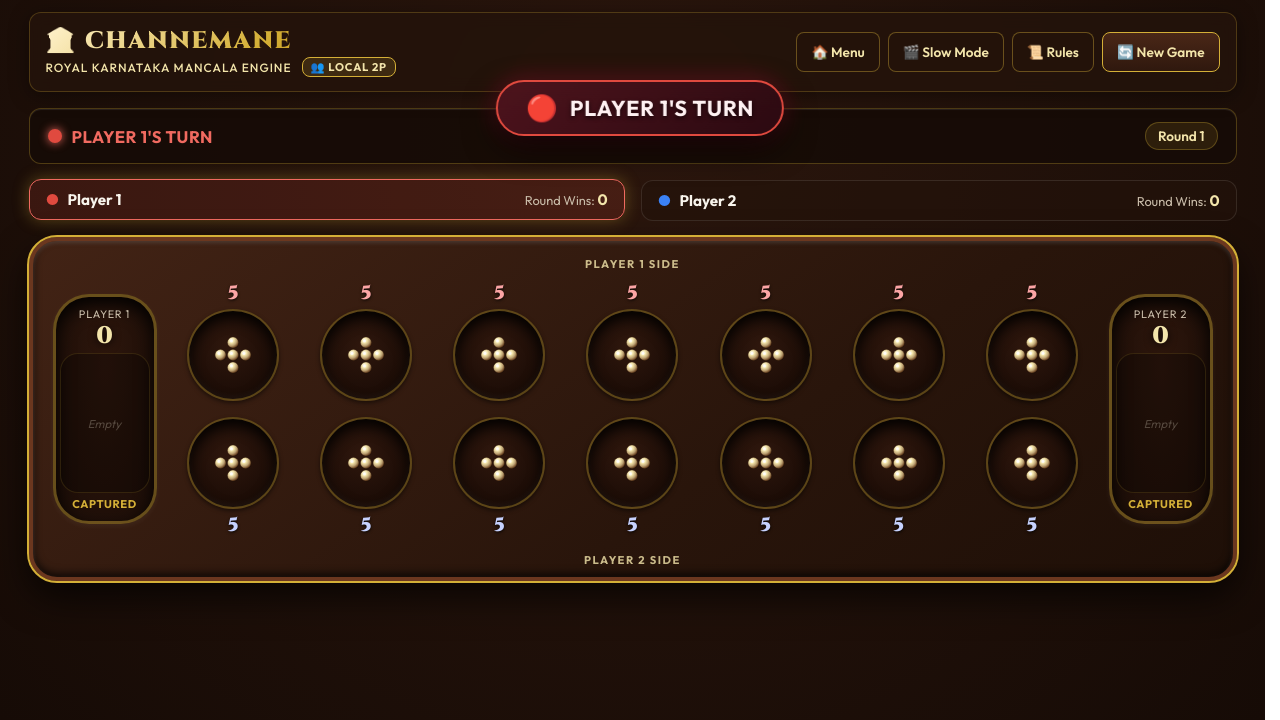
Test: App Integration with Channemane Engine › opens and closes the Rules modal
Click the button with test id "rules-btn". click: coordinates (1053, 52)
box: [1012,32,1094,72]
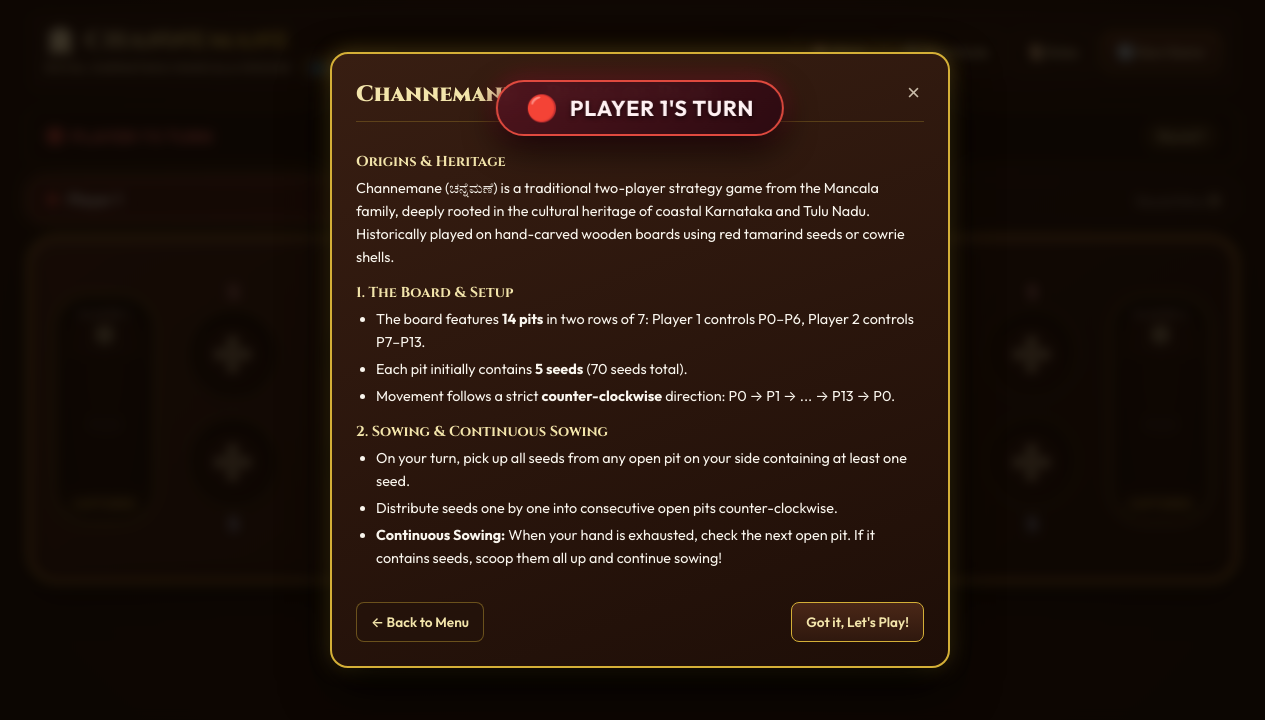
Check: the dialog with test id "rules-modal" is shown
Click the button with test id "close-rules-btn". click: coordinates (913, 94)
box: [903,78,924,109]
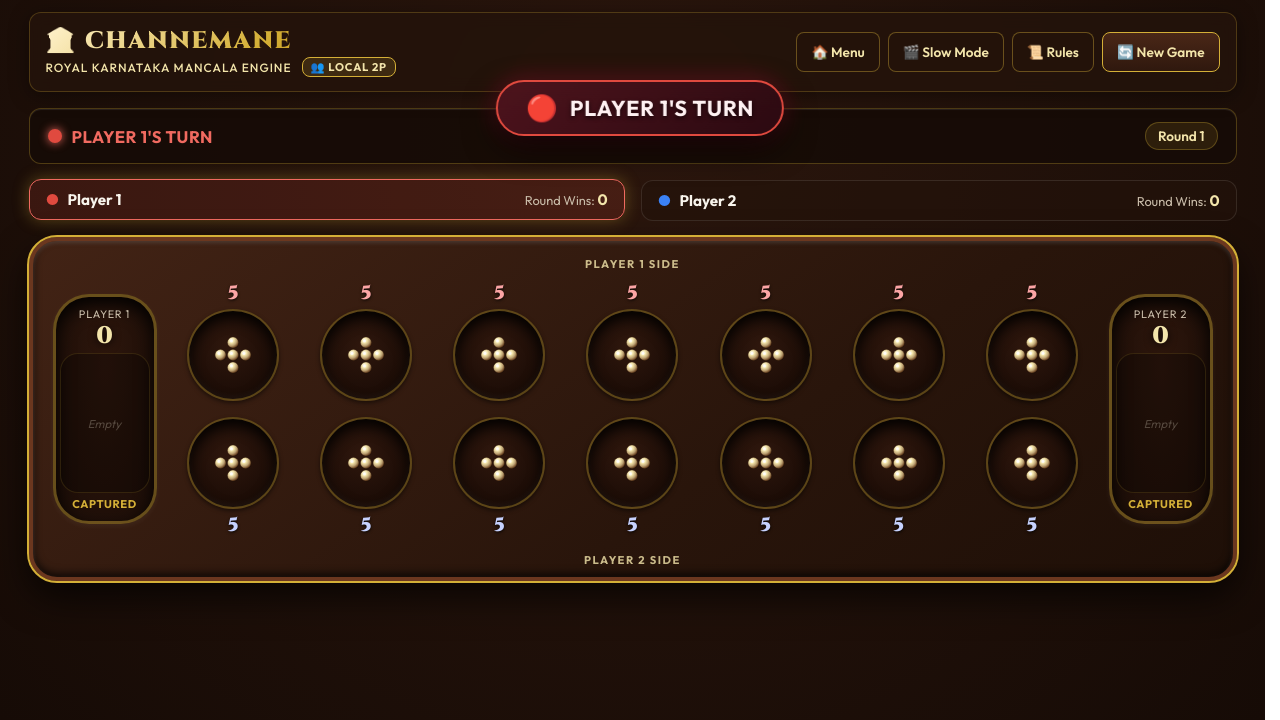
Check: the dialog with test id "rules-modal" is gone
